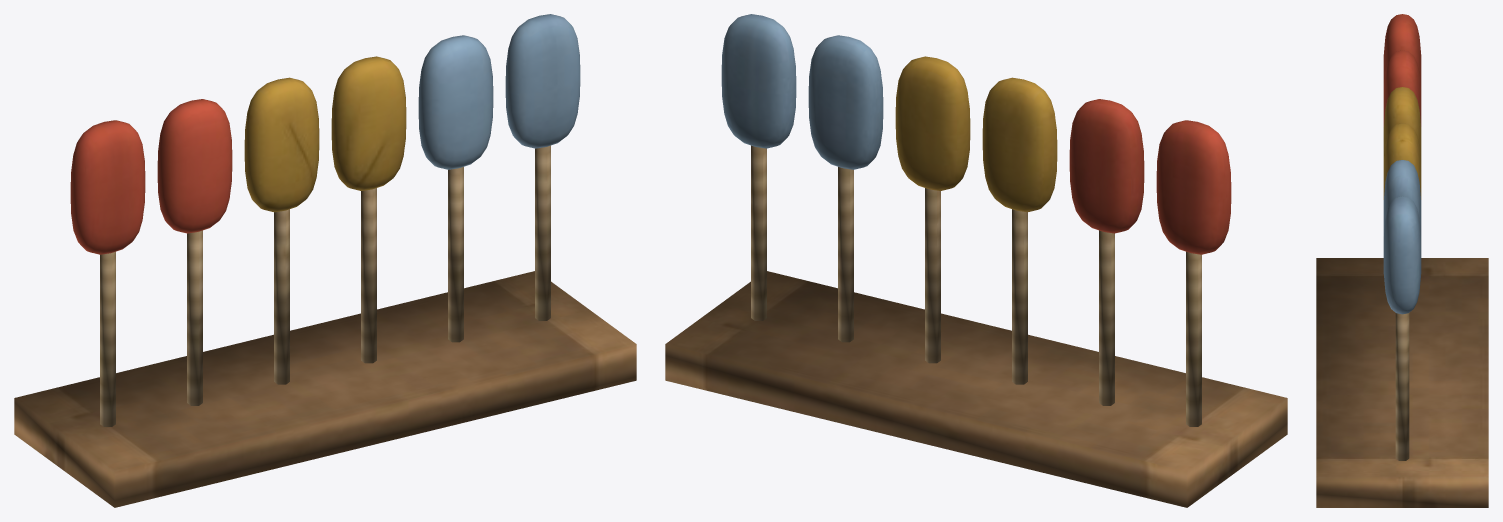
Rendered from glove_dryer.glb.
The picture shows the model from 3 angles, left to right: view 1: azimuth 30°, elevation 25°; view 2: azimuth 150°, elevation 25°; view 3: azimuth 270°, elevation 25°; orthographic projection. The views are drawn at different scales.
Parts seen in each view (by area): view 1: glove_dryer_wood, glove_dryer_felt_mustard, glove_dryer_felt_red, glove_dryer_felt_sky, glove_dryer_wood_light; view 2: glove_dryer_wood, glove_dryer_felt_mustard, glove_dryer_felt_red, glove_dryer_felt_sky, glove_dryer_wood_light; view 3: glove_dryer_wood, glove_dryer_felt_sky, glove_dryer_felt_mustard, glove_dryer_felt_red, glove_dryer_wood_light.
Boxes of the visible parts, x1=… form: glove_dryer_wood: x1=14, y1=271, x2=636, y2=507; glove_dryer_felt_mustard: x1=244, y1=56, x2=406, y2=212; glove_dryer_felt_red: x1=70, y1=99, x2=232, y2=254; glove_dryer_felt_sky: x1=418, y1=14, x2=580, y2=169; glove_dryer_wood_light: x1=100, y1=145, x2=550, y2=426; glove_dryer_wood: x1=665, y1=271, x2=1287, y2=507; glove_dryer_felt_mustard: x1=895, y1=56, x2=1057, y2=212; glove_dryer_felt_red: x1=1069, y1=99, x2=1231, y2=254; glove_dryer_felt_sky: x1=721, y1=14, x2=883, y2=169; glove_dryer_wood_light: x1=751, y1=145, x2=1201, y2=426; glove_dryer_wood: x1=1316, y1=258, x2=1488, y2=507; glove_dryer_felt_sky: x1=1383, y1=160, x2=1421, y2=314; glove_dryer_felt_mustard: x1=1383, y1=87, x2=1421, y2=199; glove_dryer_felt_red: x1=1383, y1=14, x2=1421, y2=126; glove_dryer_wood_light: x1=1395, y1=313, x2=1409, y2=460.
Bounding box in the file's own units: 1.2 × 0.74 × 0.4.
5 materials, 5 textured.
